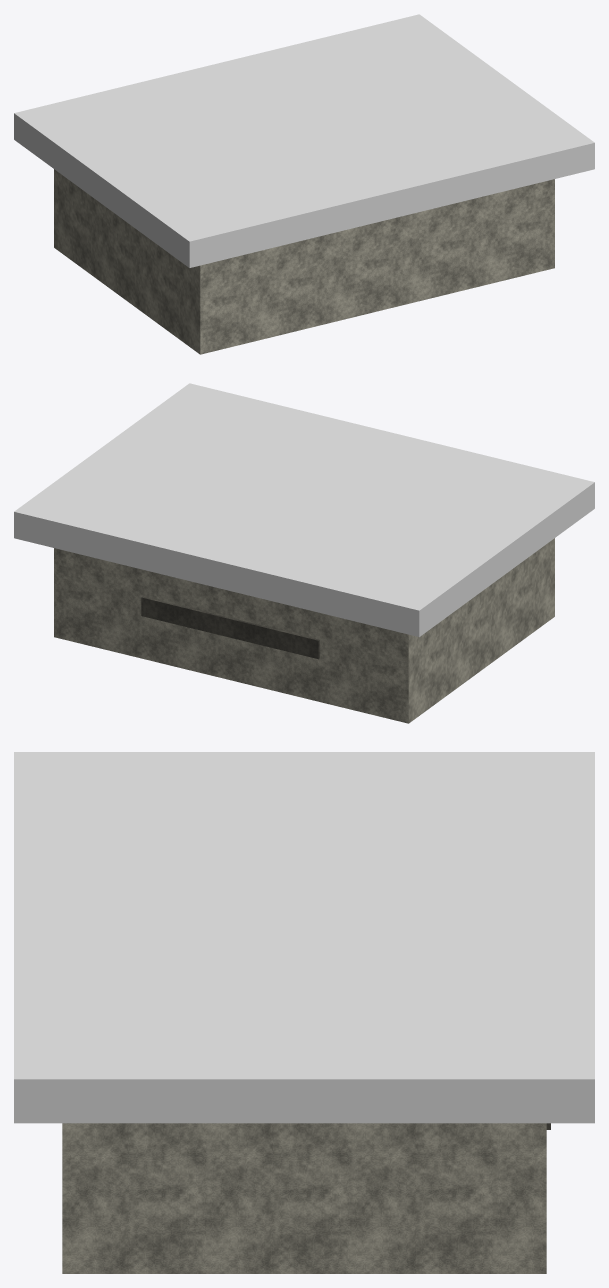
File: Strategic_Bunker.fbx
The picture shows the model from 3 angles, top to bottom: view 1: azimuth 30°, elevation 25°; view 2: azimuth 150°, elevation 25°; view 3: azimuth 270°, elevation 25°; orthographic projection. The views are drawn at different scales.
Visible parts, largest first — view 1: Strategic_Bunker; view 2: Strategic_Bunker; view 3: Strategic_Bunker.
Boxes of the visible parts, x1,y1,x2,y2 form: Strategic_Bunker: (14,14,594,354); Strategic_Bunker: (14,383,594,723); Strategic_Bunker: (14,752,594,1273).
Bounding box in the file's own units: 1600 × 490 × 1200.
